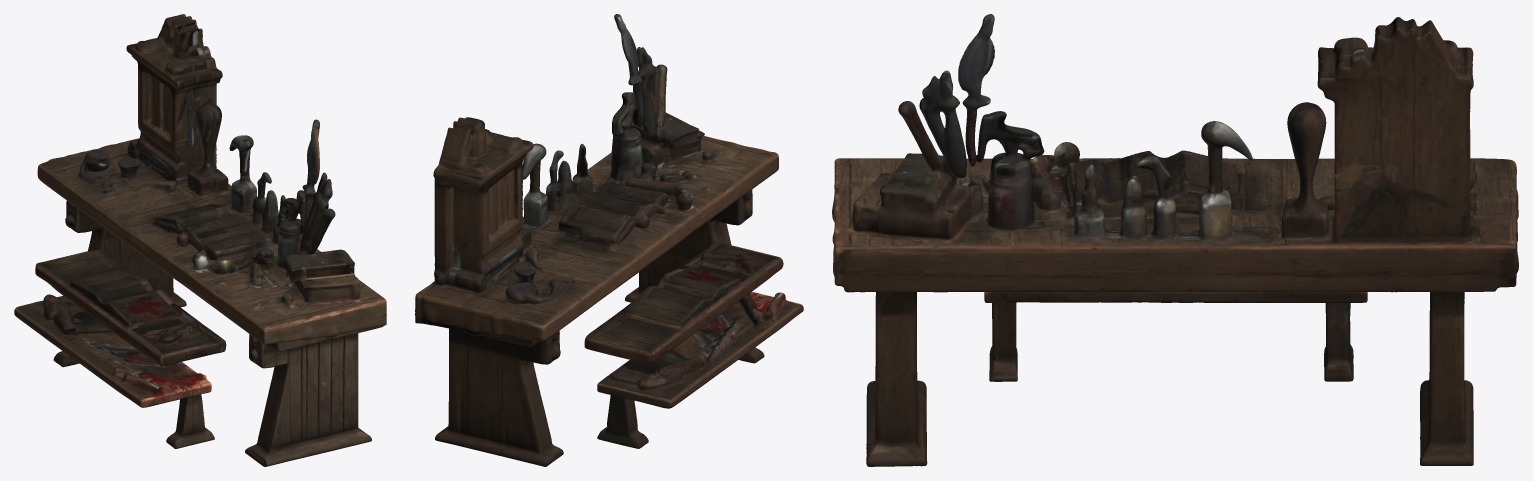
The model's file is crafting-bench.glb.
3 views of the same model, side by side, from view 1: azimuth 30°, elevation 25°; view 2: azimuth 150°, elevation 25°; view 3: azimuth 270°, elevation 25° (orthographic). The views are drawn at different scales.
Bounding box in the file's own units: 0.9897 × 1.42 × 2.
Materials: 1 (1 with a texture image).
